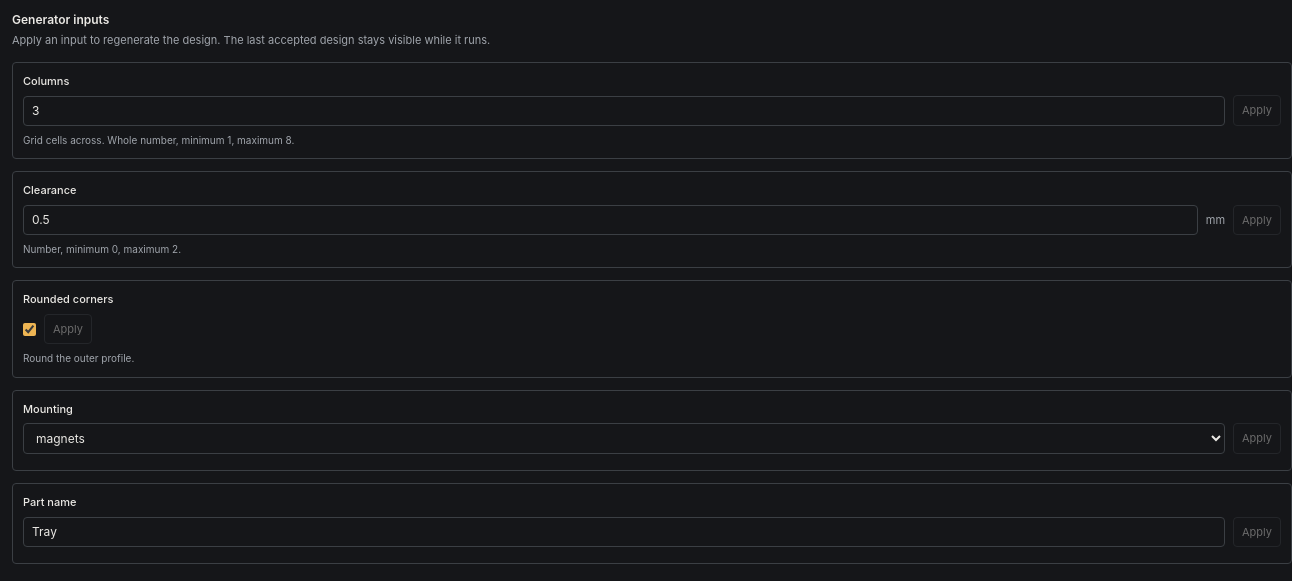
Test case: source-driven generator inputs › canonicalizes a value equal to accepted input and cancels the draft safely
The image size is (1292, 581).
Replace the text in the field labelled "Columns" with "3.0" at (624, 111), box [23,96,1225,126]
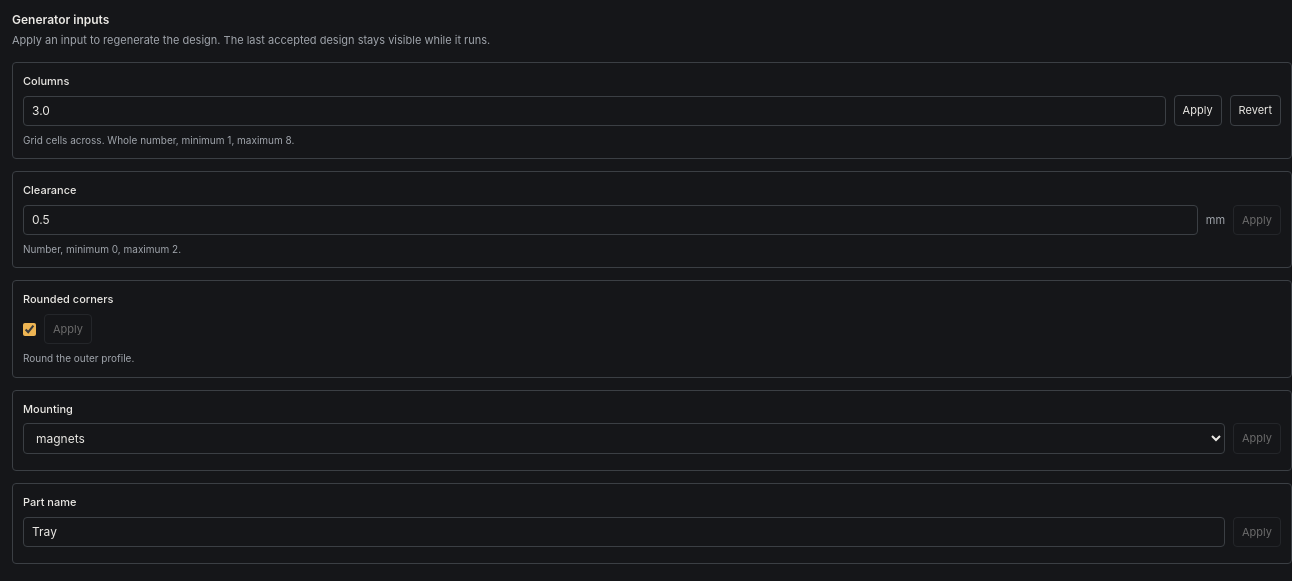
Click the button with aria-label "Apply Columns" at (1198, 111), box [1174,95,1222,126]
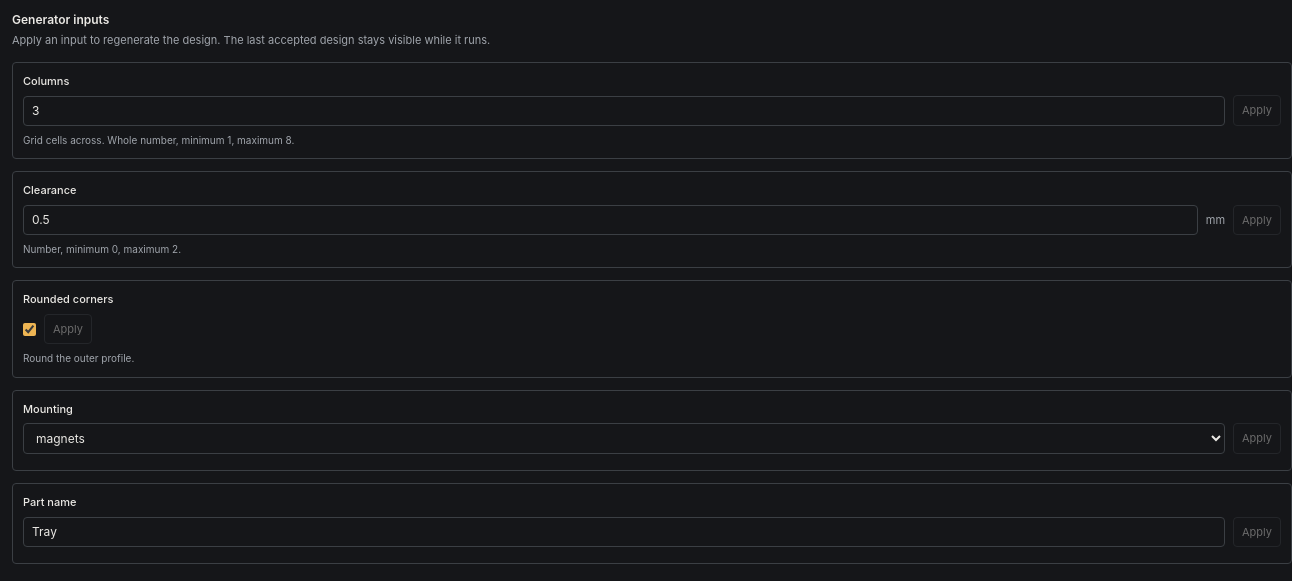
Check: the field labelled "Columns" holds "3", box [23,96,1225,126]
Replace the text in the field labelled "Part name" with "Draft" at (624, 532), box [23,517,1225,547]
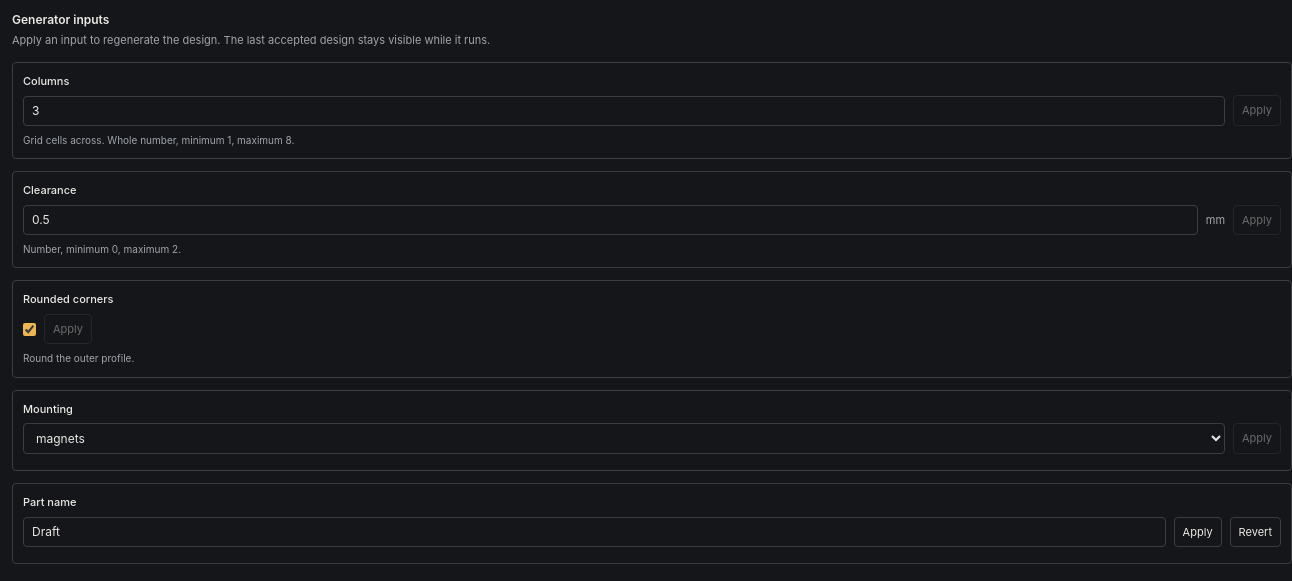
Press Escape in the field labelled "Part name", box [23,517,1166,547]
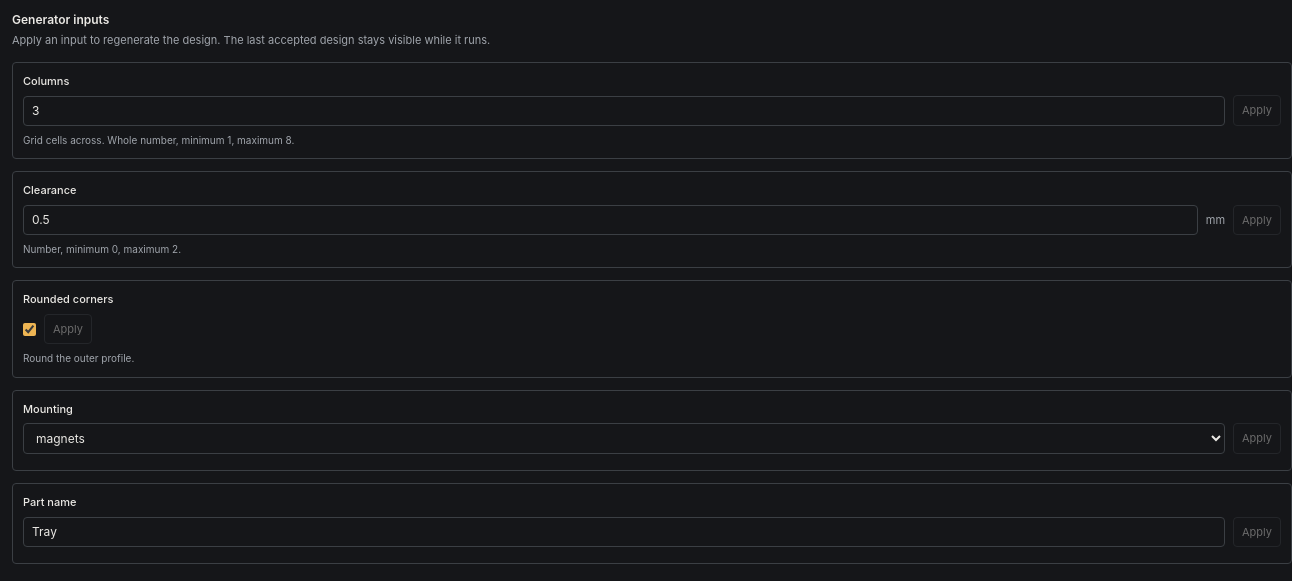
Check: the field labelled "Part name" holds "Tray", box [23,517,1225,547]
